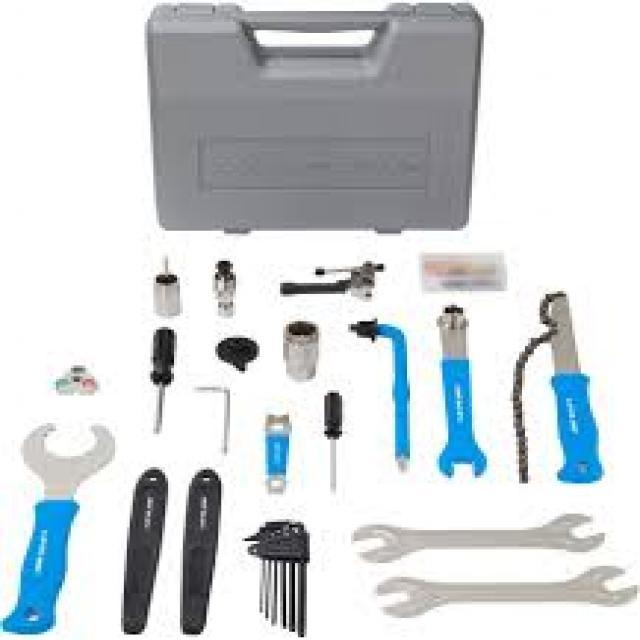screwdriver: (142, 321, 182, 438), (318, 386, 354, 502)
wrench: (0, 416, 124, 640), (370, 558, 640, 626), (346, 503, 611, 568), (432, 299, 496, 489)
